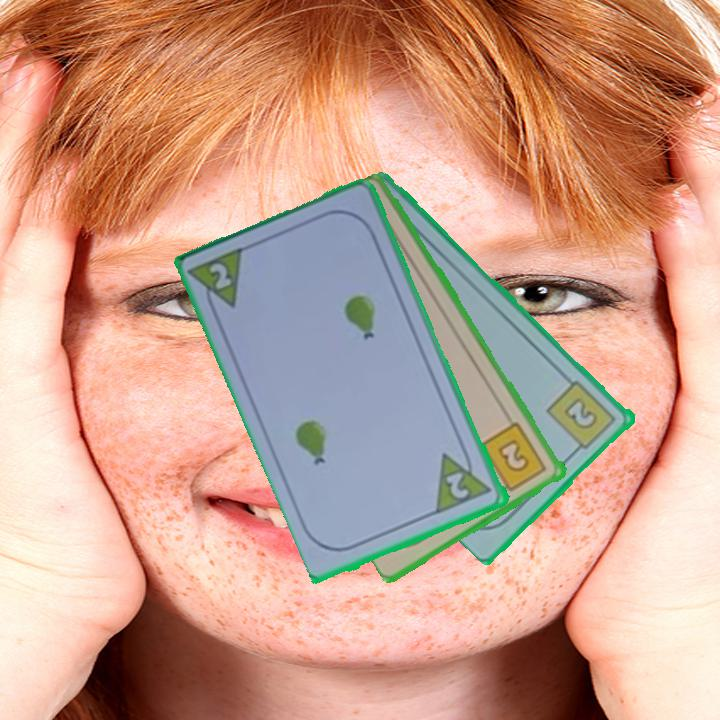2b: (543, 377, 620, 457), (478, 419, 550, 497)
2p: (432, 442, 496, 517), (206, 259, 236, 293)
